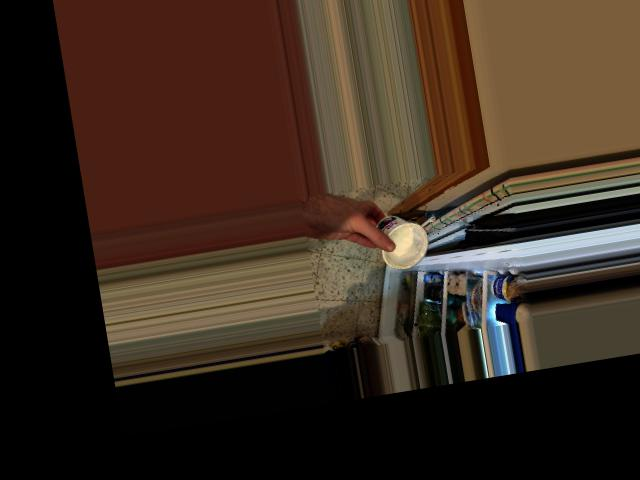cotage: (369, 206, 437, 274)
